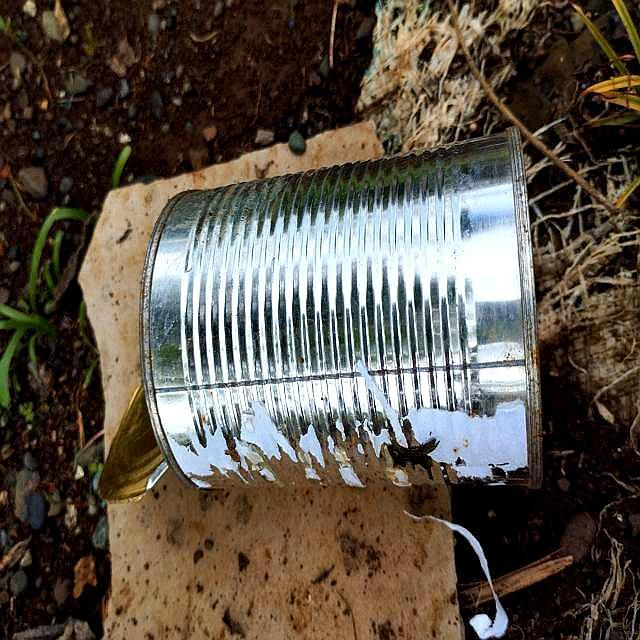Non-biodegradable: (97, 127, 549, 505)
